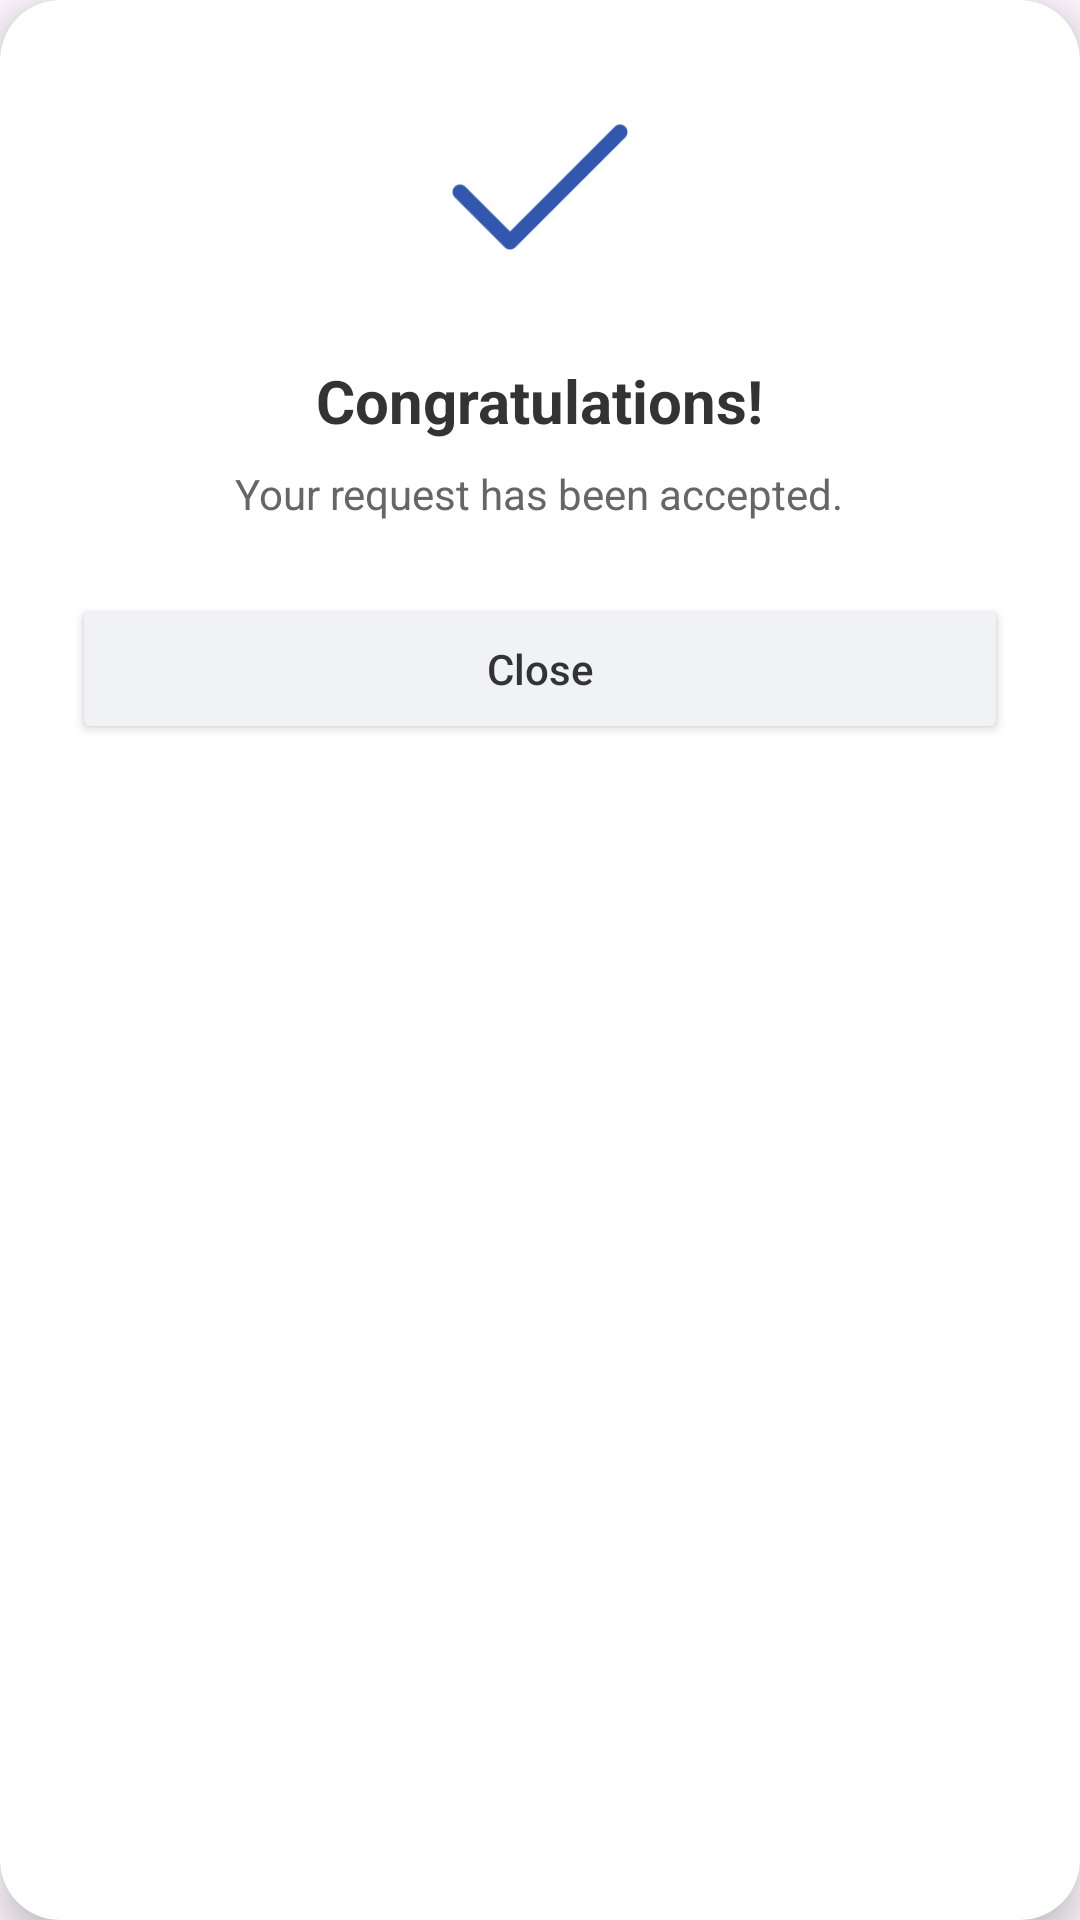

Icons on this 1080px×1920px Android screen, each with its box as rect(x1, y1, x2, y2):
accepted: rect(452, 124, 628, 250)
